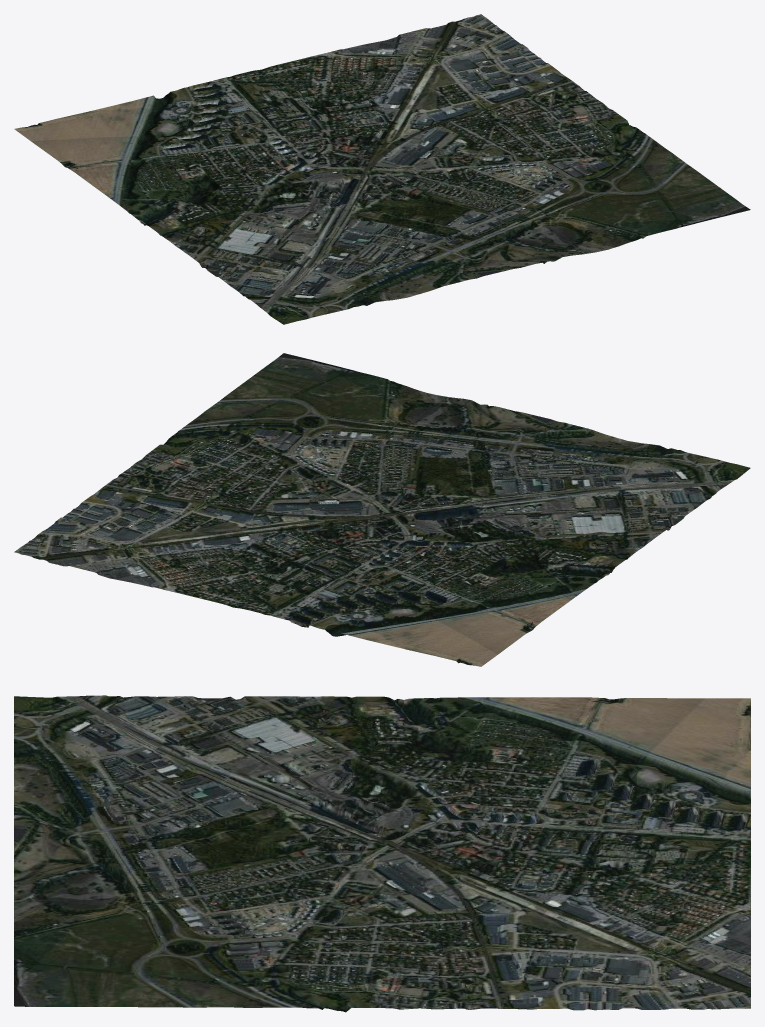
File: map_10_252_427.dae
The picture shows the model from 3 angles, top to bottom: view 1: azimuth 30°, elevation 25°; view 2: azimuth 150°, elevation 25°; view 3: azimuth 270°, elevation 25°; orthographic projection. The views are drawn at different scales.
Visible parts, largest first — view 1: Ter0; view 2: Ter0; view 3: Ter0.
Boxes of the visible parts, x1,y1,x2,y2 form: Ter0: [14, 14, 750, 324]; Ter0: [14, 353, 750, 666]; Ter0: [14, 695, 750, 1012].
Size of the model in its own units: 2044 by 2044 by 37.09.
Materials: 3 (3 with a texture image).
